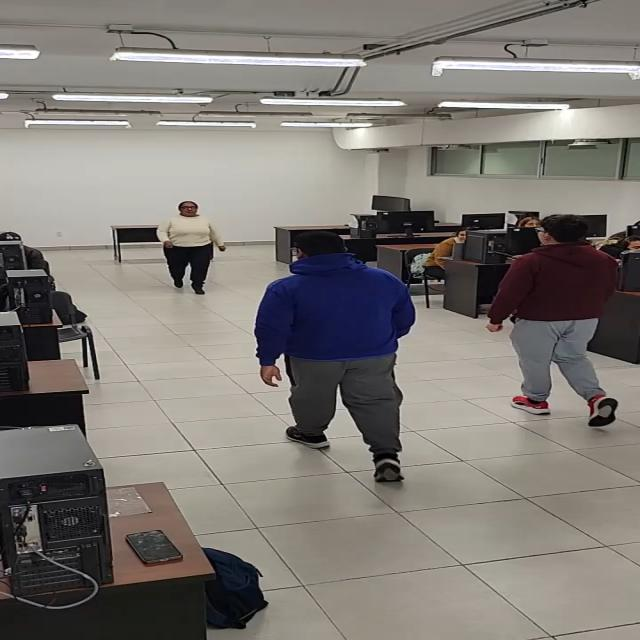Persona: (256, 228, 455, 498), (489, 200, 640, 481), (148, 189, 264, 300)
